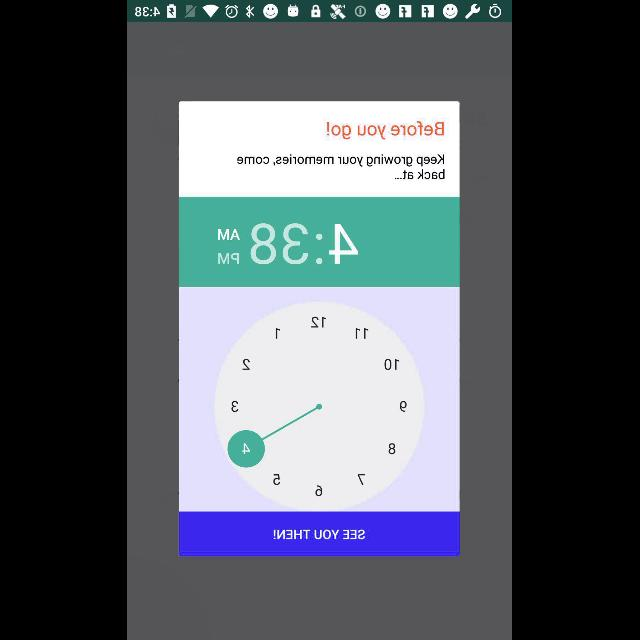image: (214, 302, 426, 512)
panel: (180, 101, 460, 556)
text: (237, 154, 446, 180), (250, 224, 360, 266), (327, 122, 445, 140), (218, 229, 242, 241), (220, 253, 240, 264)
textbutton: (180, 512, 460, 556)
uppertaskbar: (128, 1, 512, 23)
